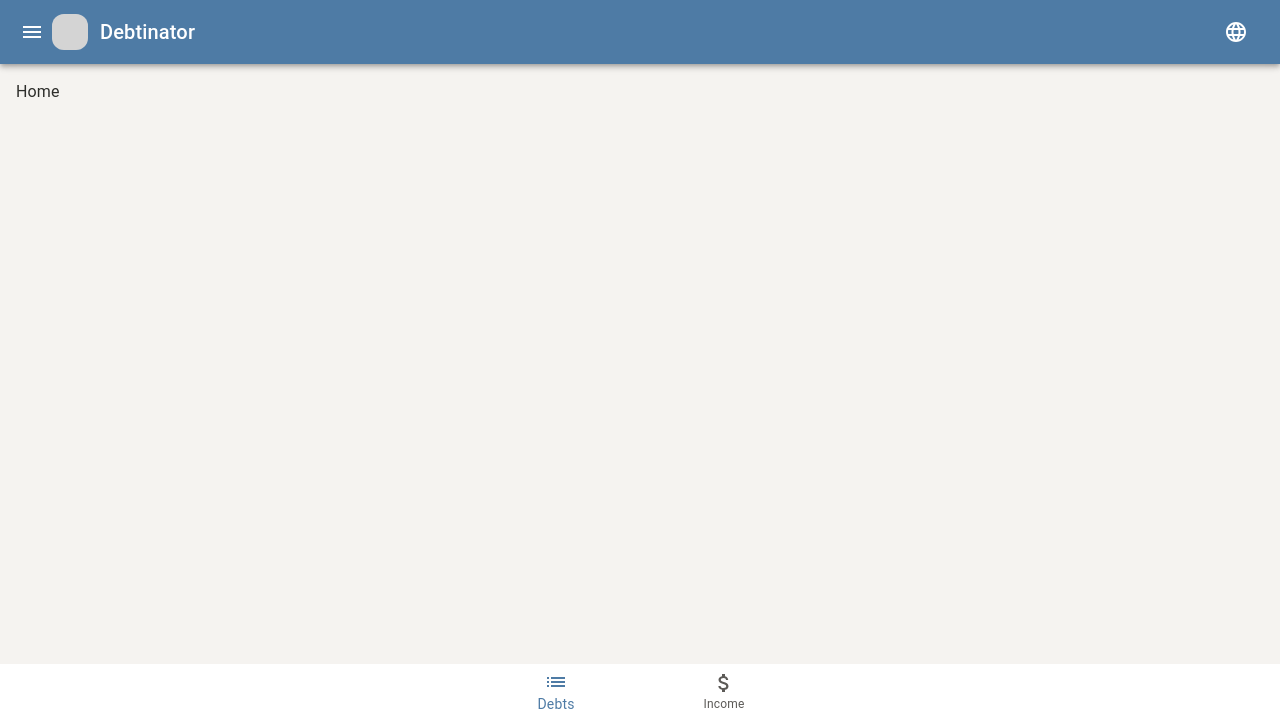
it: Layout › Language menu › closes menu when selecting a language
Click the button with test id "language-menu-button": (1236, 32) [1216,12,1256,52]
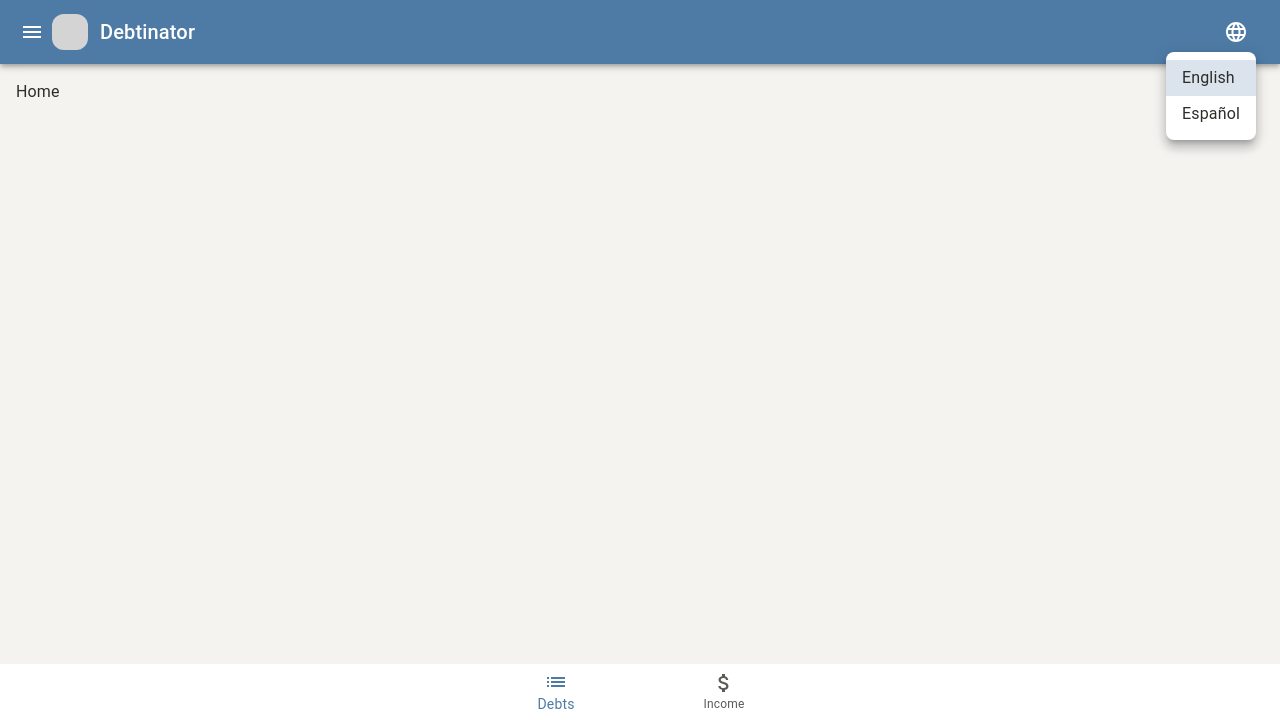
Now the menu item with test id "language-es-btn" is shown
Click the menu item with test id "language-es-btn": (1211, 114) [1182,104,1240,123]
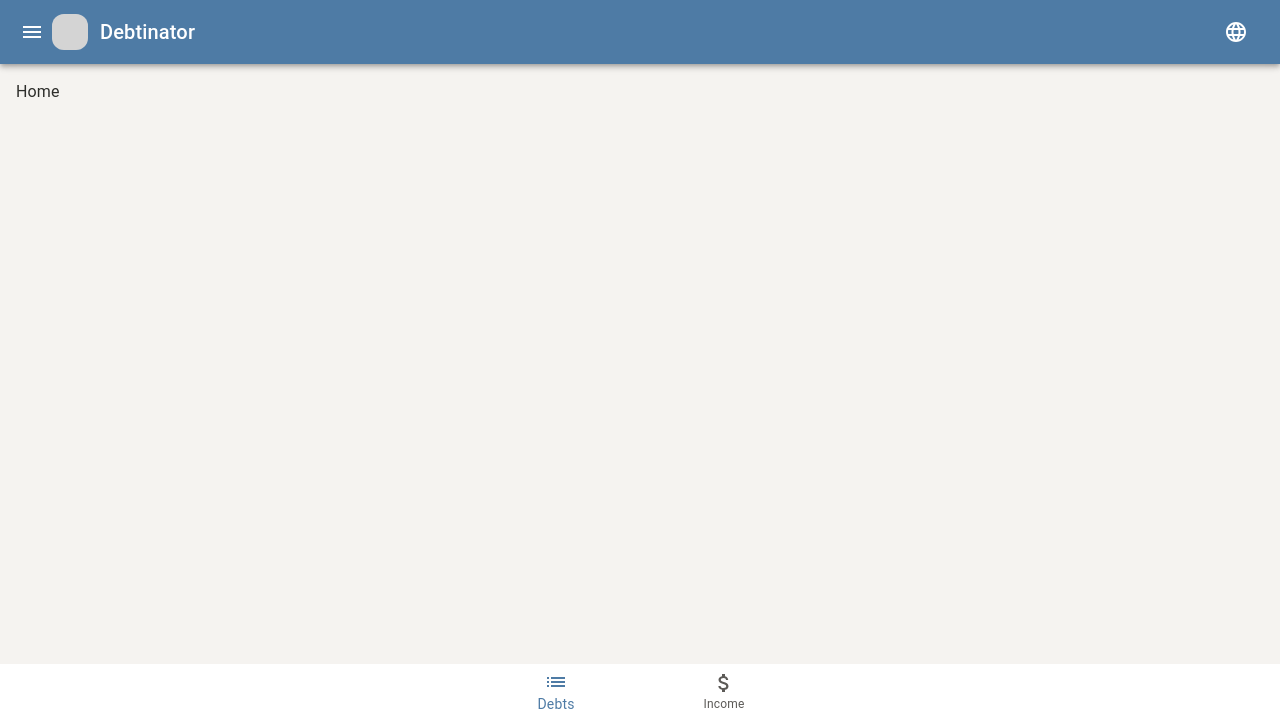
Now the menu item with test id "language-en-btn" is gone
